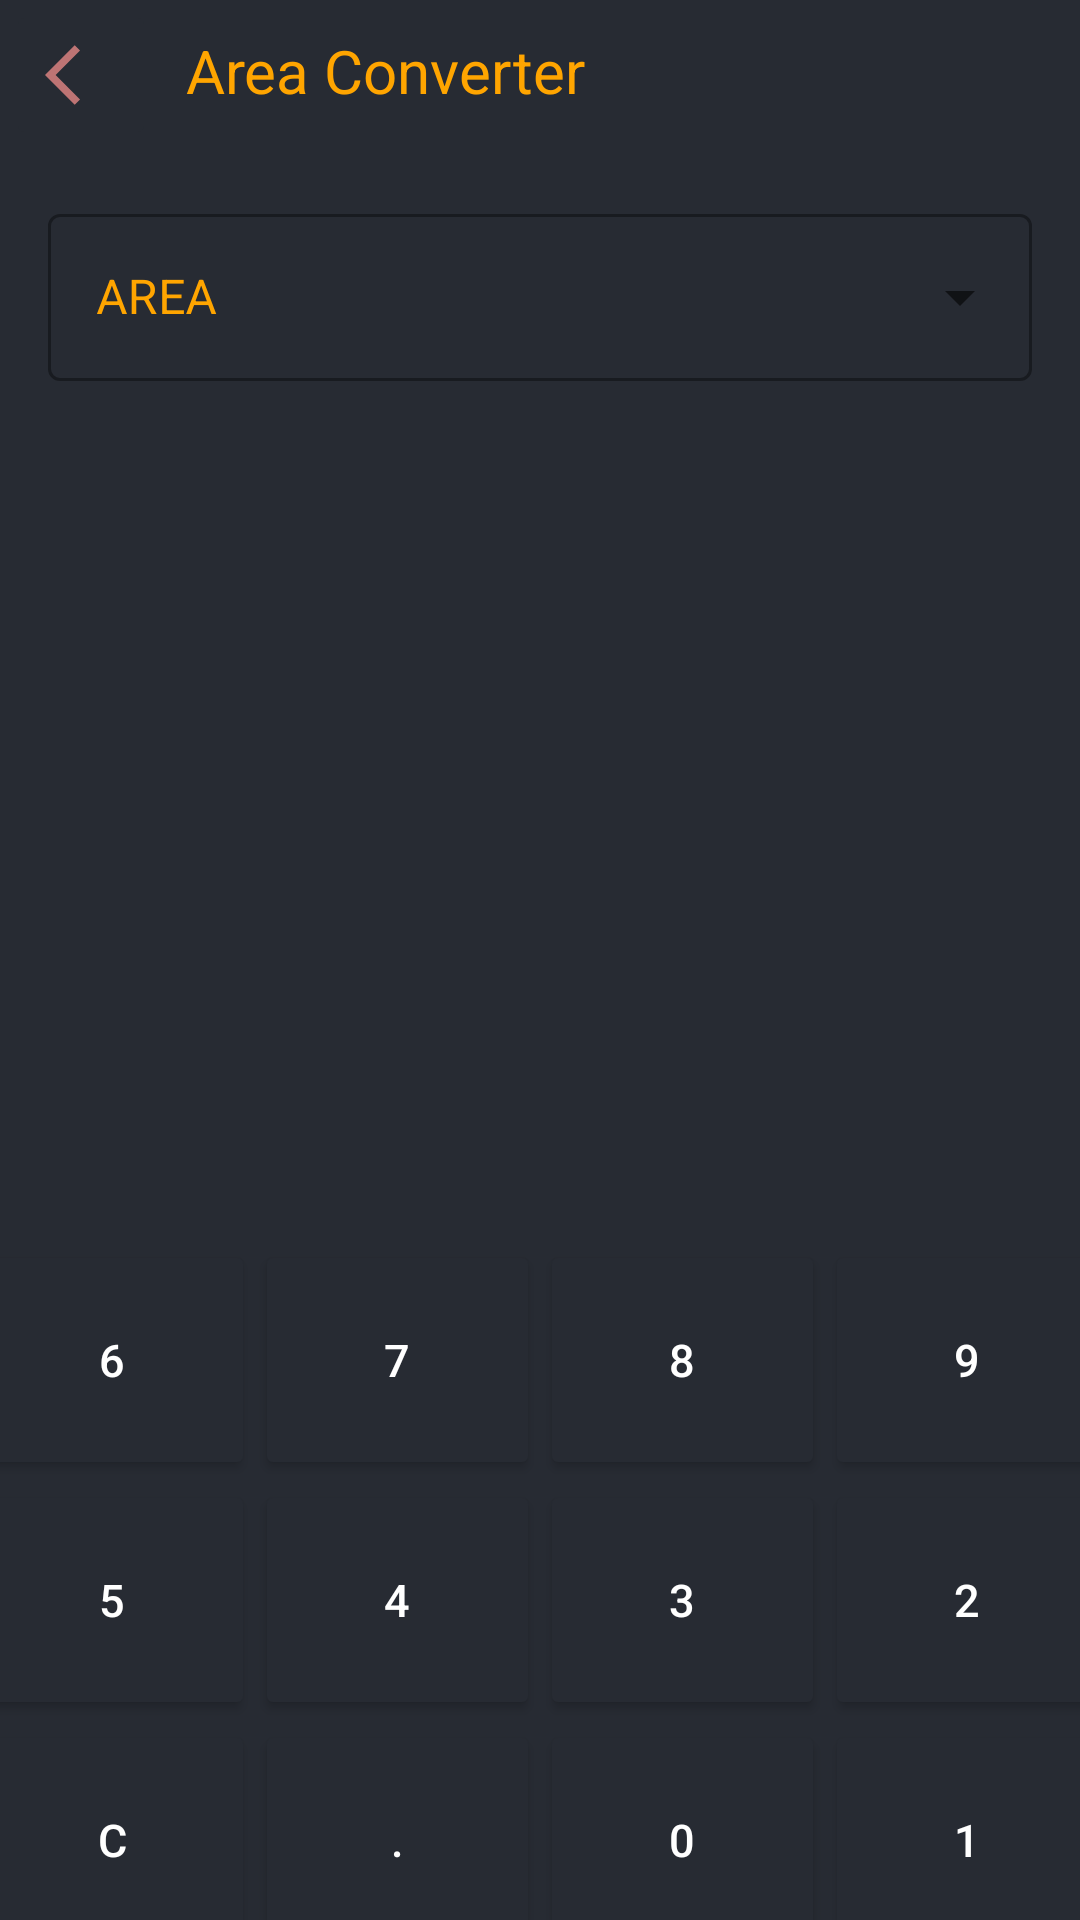

Point at icon controls on the screen. Image size 1080px x 1920px, points as (x=x, y=y).
arrow back: (x=62, y=75)
